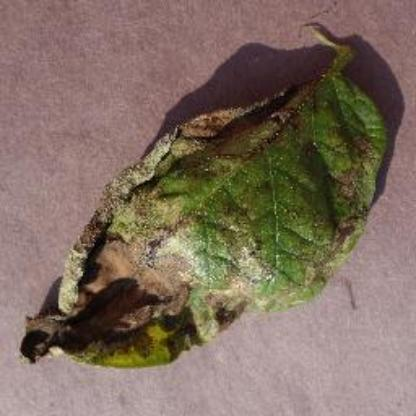Late-Blight: (23, 29, 390, 372)
